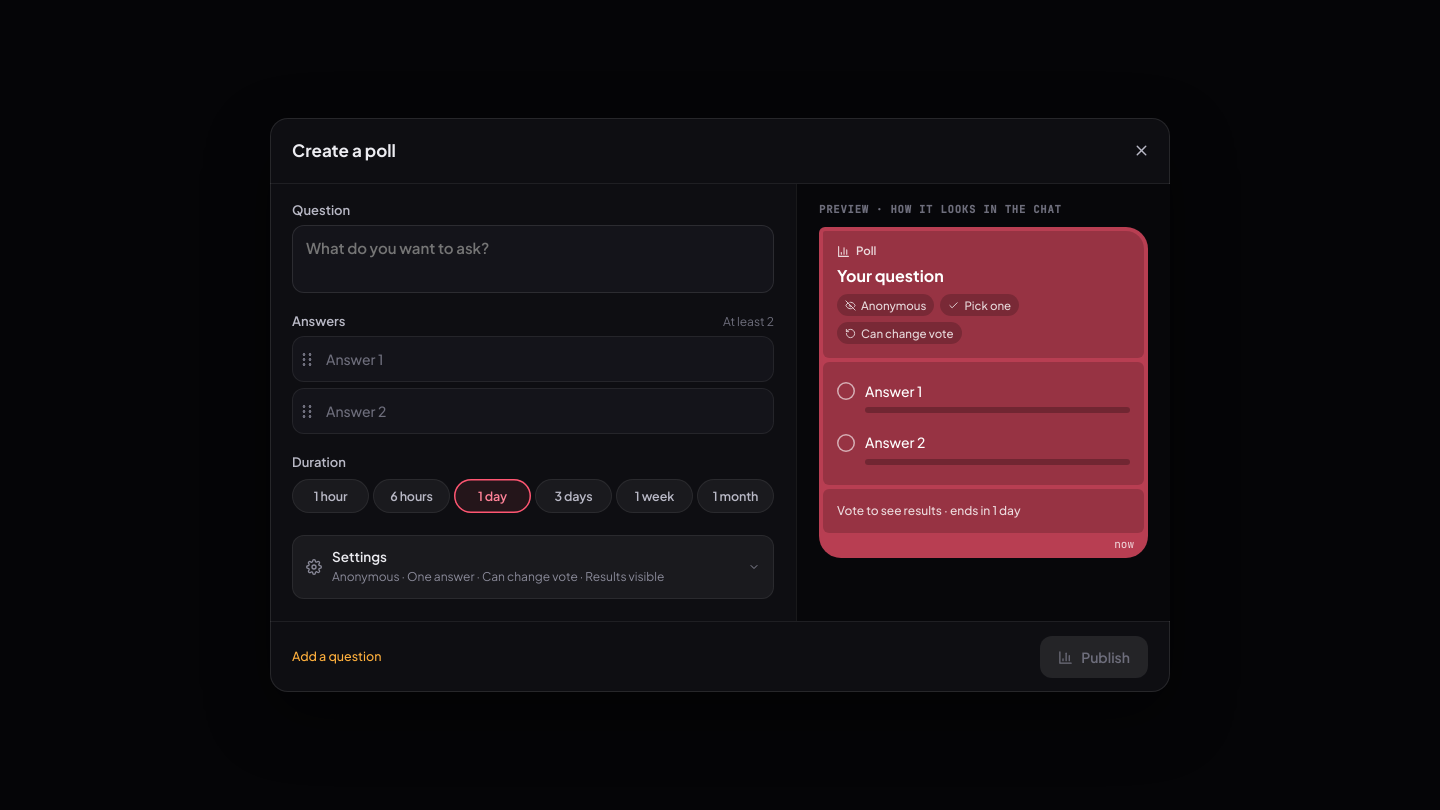
Test: PollBuilderDialog publish › each poll setting switch is named after its row
The image size is (1440, 810).
Type "Lunch?" into the text box labelled "Question" at (533, 259), box x1=306 y1=237 x2=760 y2=281
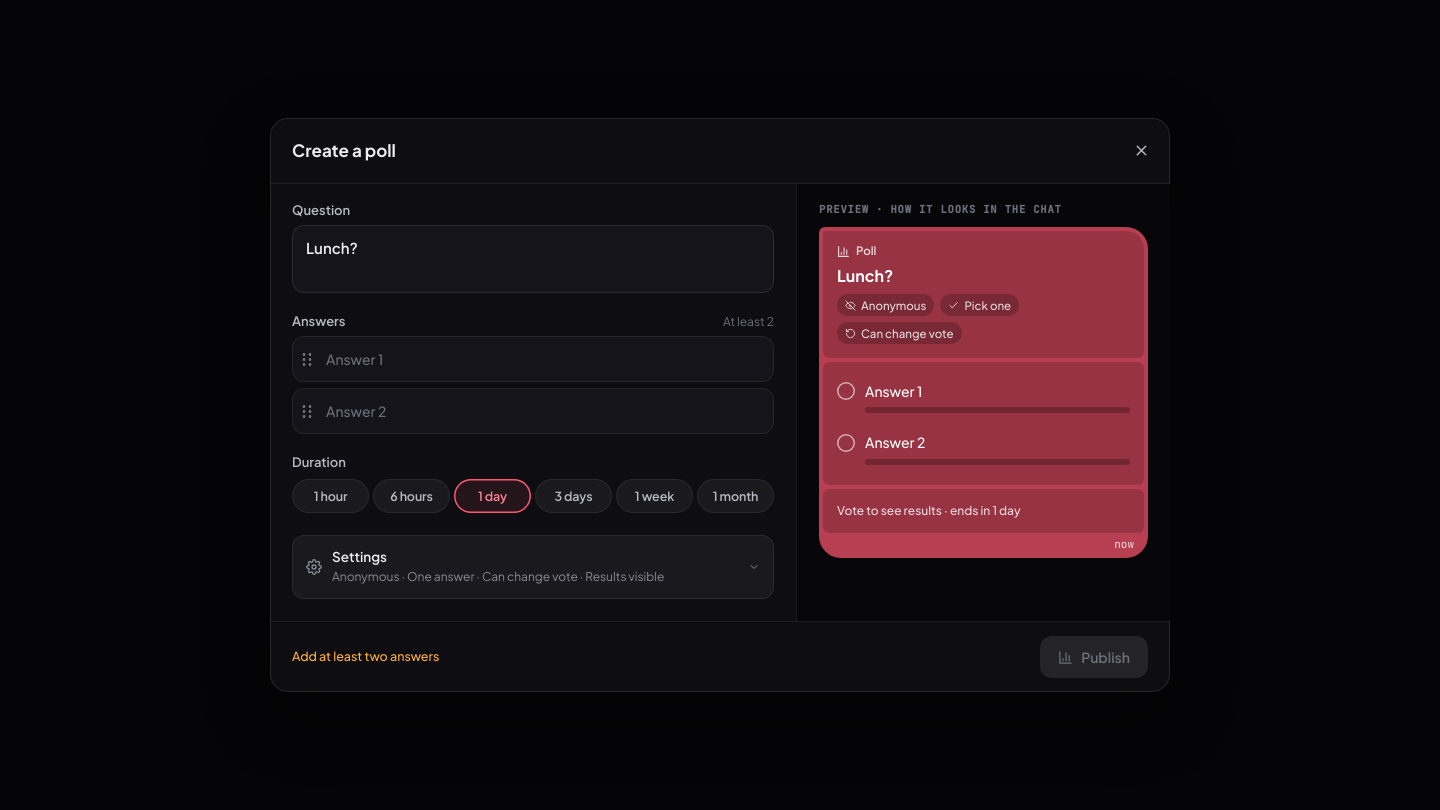
Type "Pizza" into the field with placeholder "Answer 1" at (547, 359), box x1=326 y1=336 x2=768 y2=382
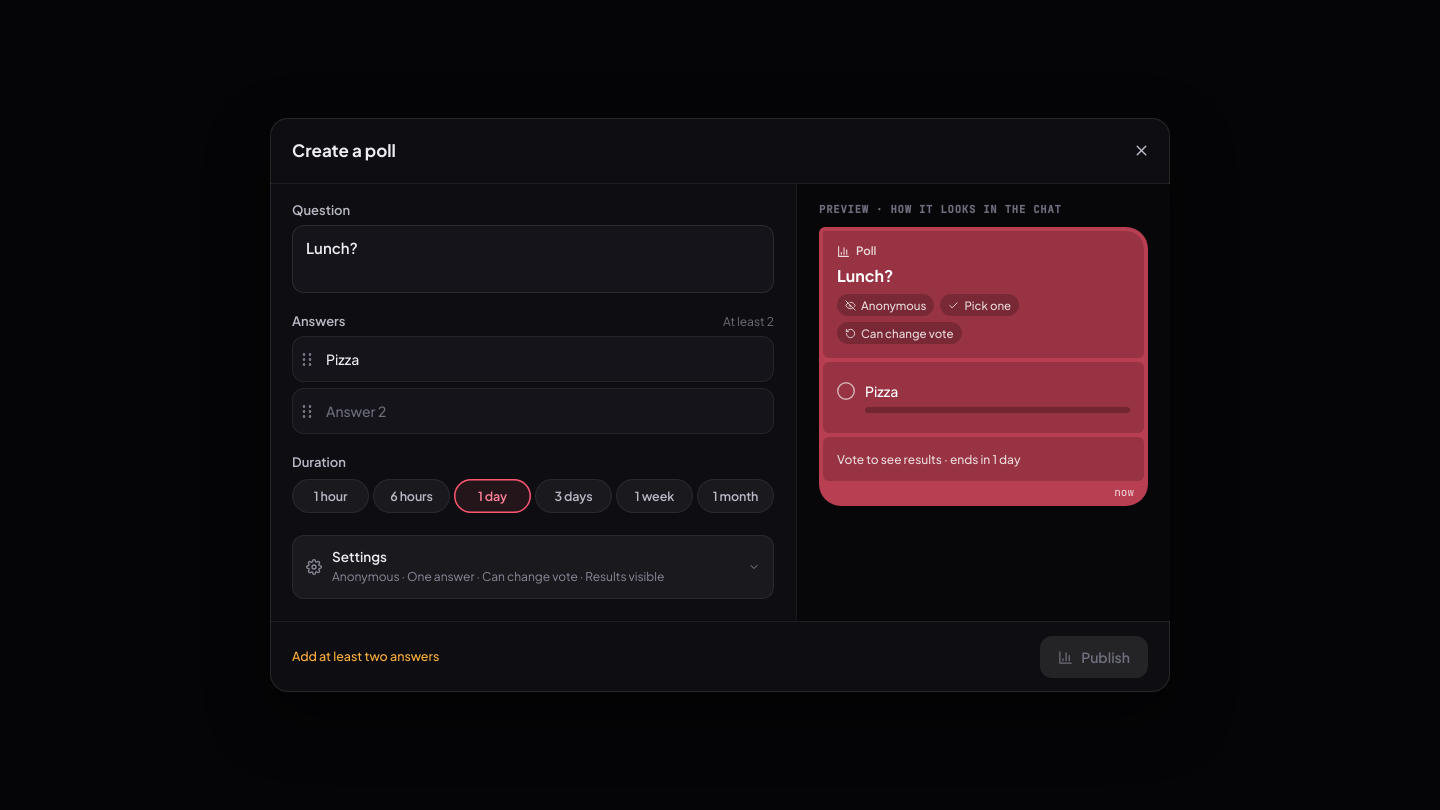
Type "Sushi" into the field with placeholder "Answer 2" at (547, 411), box x1=326 y1=388 x2=768 y2=434
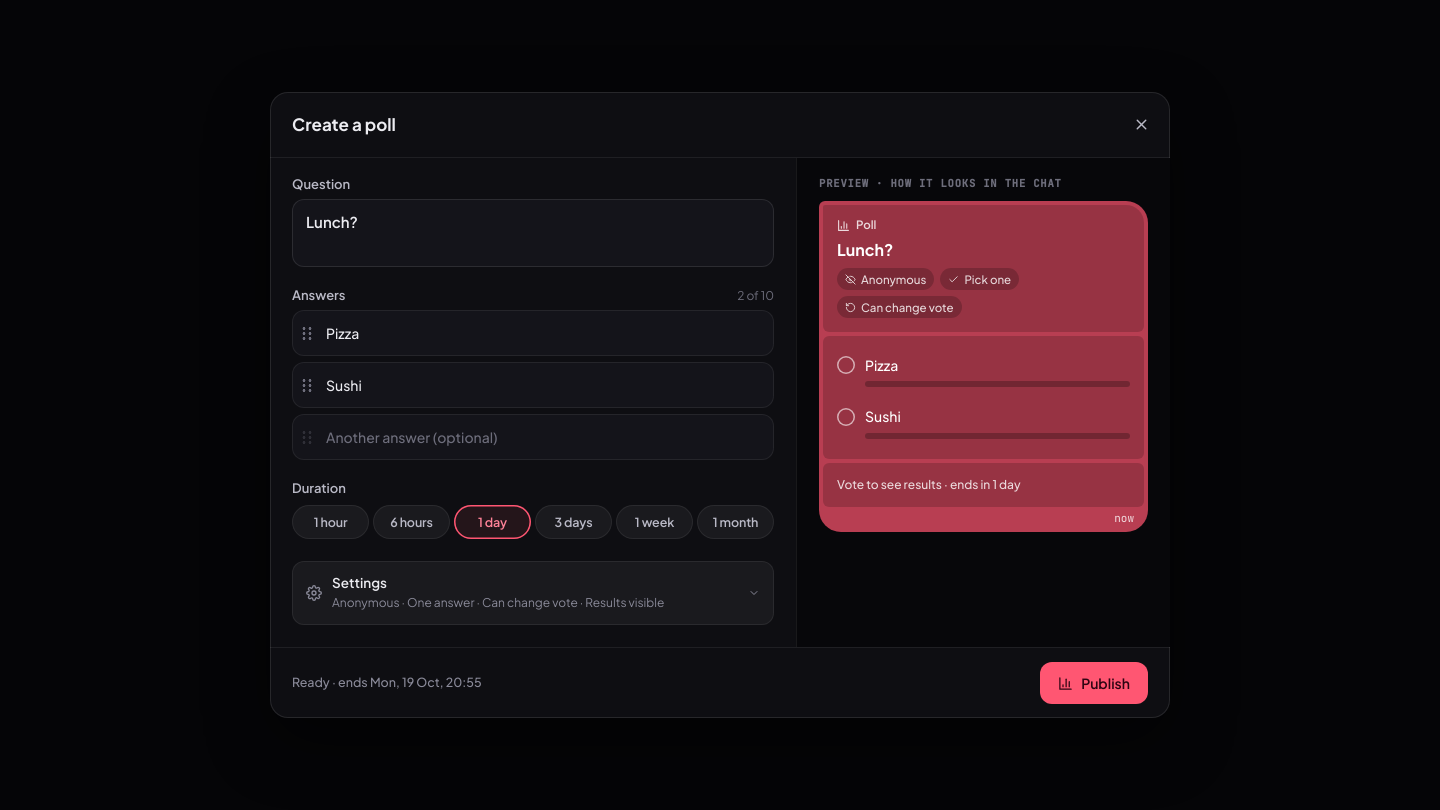
Click the button with class "settings-row" at (359, 582), box x1=306 y1=574 x2=760 y2=610
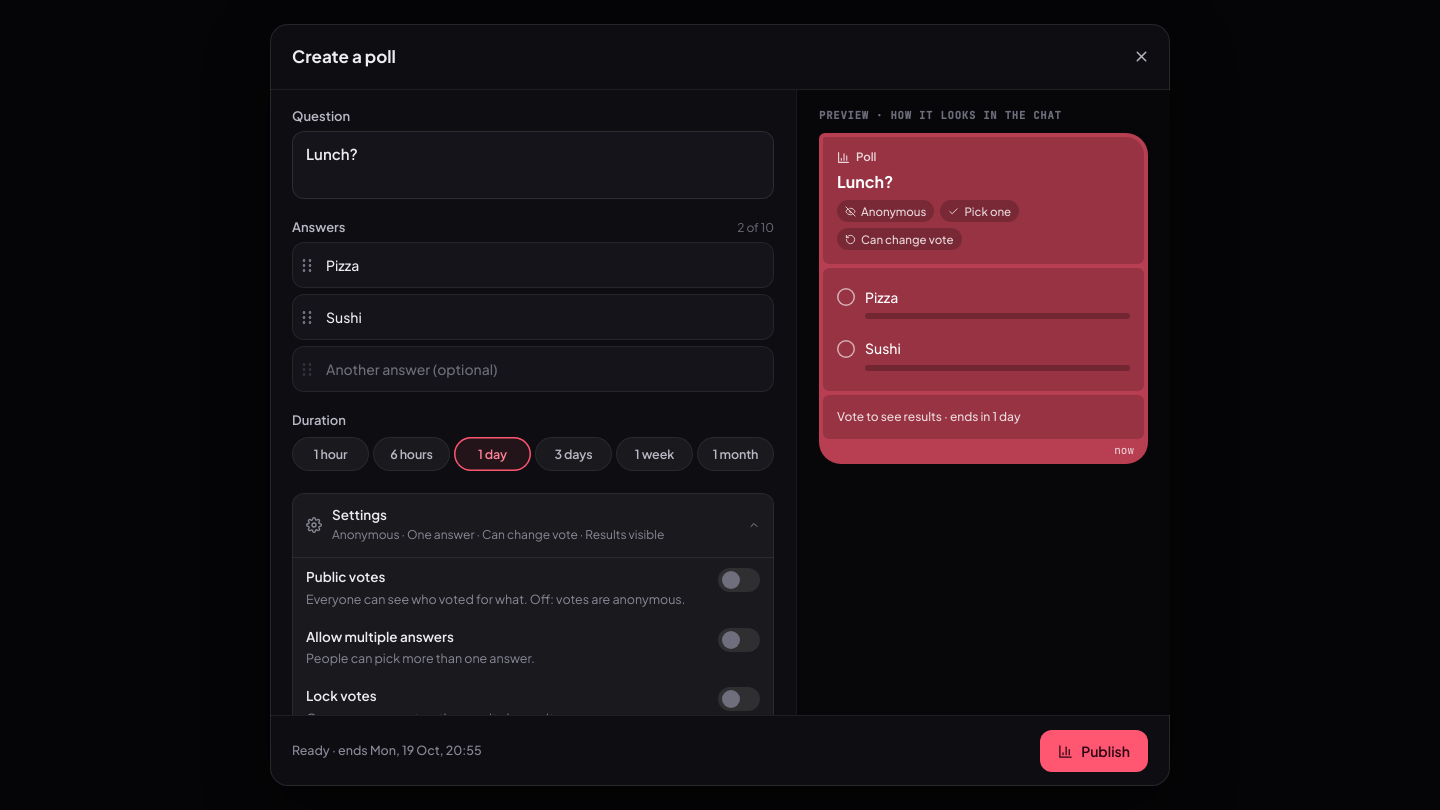
Now the text "Public votes" is shown, box x1=306 y1=568 x2=385 y2=585
